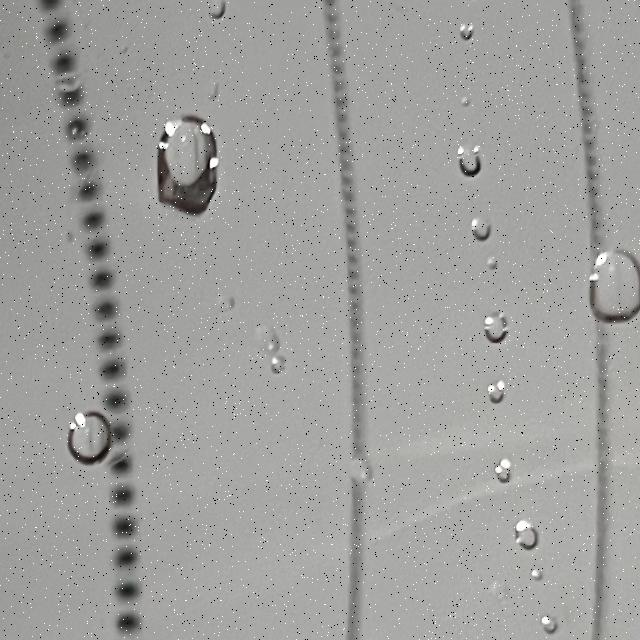raindrop: (143, 110, 223, 224), (572, 249, 640, 328), (60, 397, 122, 470), (500, 512, 542, 552), (250, 318, 286, 364), (490, 444, 519, 494), (454, 134, 485, 180), (261, 349, 300, 382), (536, 602, 570, 638), (468, 208, 497, 250), (479, 308, 509, 348), (484, 369, 506, 414), (523, 556, 552, 582), (206, 3, 231, 28), (481, 256, 500, 274), (459, 96, 473, 115)
